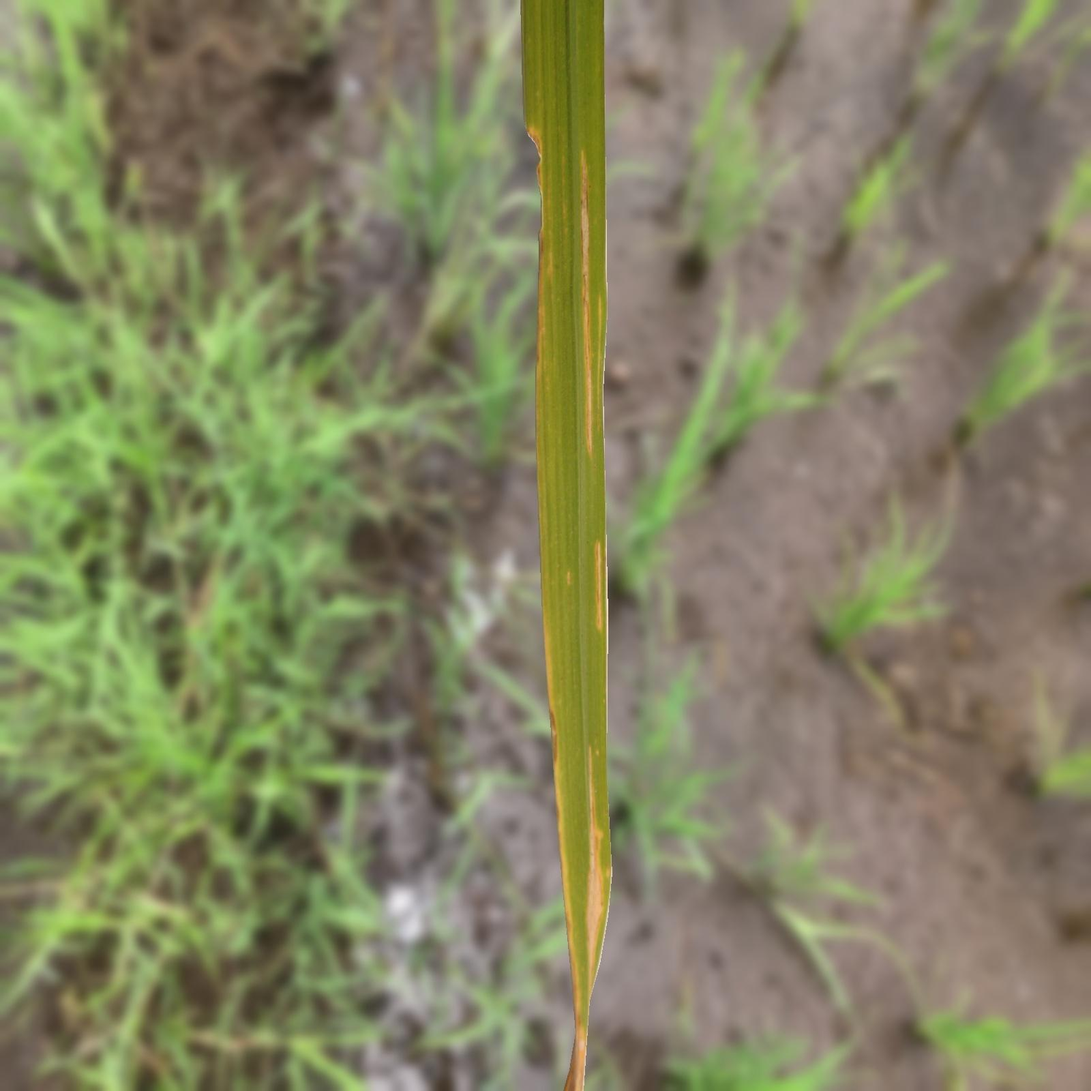BLS: (543, 611, 586, 1090), (585, 743, 606, 1001), (579, 148, 593, 459), (596, 291, 602, 434), (595, 542, 602, 630)
LEAF: (520, 0, 612, 1090)
